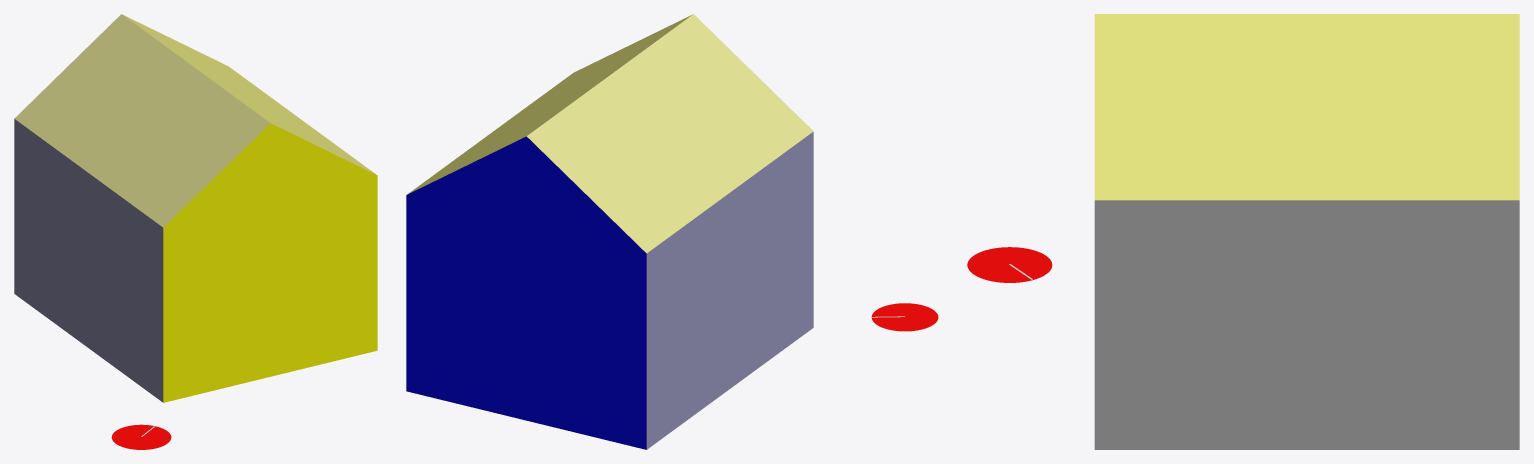
The model's file is result.glb.
3 renders of one model, left to right at view 1: azimuth 30°, elevation 25°; view 2: azimuth 150°, elevation 25°; view 3: azimuth 270°, elevation 25°, orthographic. The views are drawn at different scales.
Visible parts, largest first — view 1: aa863c25-0b22-4197-83e9-554aa67a7fcb__undefined, 058225fe-0f4d-4bdf-abdf-ac66dbb0f988__undefined, 706b74f6-5422-4819-9f81-85ab25ceb023__undefined, 0c68e49c-867d-4fc0-b882-c3ee7961ec3b__undefined, 887cbe27-3654-4a99-a986-1f576d9929c4__Circle; view 2: 5343460c-4648-469c-8b9d-e86530b473be__undefined, 058225fe-0f4d-4bdf-abdf-ac66dbb0f988__undefined, 706b74f6-5422-4819-9f81-85ab25ceb023__undefined, 0c68e49c-867d-4fc0-b882-c3ee7961ec3b__undefined, 887cbe27-3654-4a99-a986-1f576d9929c4__Circle; view 3: 5b4c2a55-672b-48f3-bd8b-c80b558ea79b__undefined, 0c68e49c-867d-4fc0-b882-c3ee7961ec3b__undefined, 887cbe27-3654-4a99-a986-1f576d9929c4__Circle.
Boxes of the visible parts, x1,y1,x2,y2 form: aa863c25-0b22-4197-83e9-554aa67a7fcb__undefined: (163,123,377,402); 058225fe-0f4d-4bdf-abdf-ac66dbb0f988__undefined: (14,14,269,227); 706b74f6-5422-4819-9f81-85ab25ceb023__undefined: (14,119,163,402); 0c68e49c-867d-4fc0-b882-c3ee7961ec3b__undefined: (122,14,376,174); 887cbe27-3654-4a99-a986-1f576d9929c4__Circle: (111,424,171,449); 5343460c-4648-469c-8b9d-e86530b473be__undefined: (406,136,646,449); 058225fe-0f4d-4bdf-abdf-ac66dbb0f988__undefined: (526,14,813,253); 706b74f6-5422-4819-9f81-85ab25ceb023__undefined: (646,131,813,449); 0c68e49c-867d-4fc0-b882-c3ee7961ec3b__undefined: (407,14,692,194); 887cbe27-3654-4a99-a986-1f576d9929c4__Circle: (871,303,938,331); 5b4c2a55-672b-48f3-bd8b-c80b558ea79b__undefined: (1094,200,1519,449); 0c68e49c-867d-4fc0-b882-c3ee7961ec3b__undefined: (1094,14,1519,200); 887cbe27-3654-4a99-a986-1f576d9929c4__Circle: (967,247,1052,282).
Bounding box in the file's own units: 565 × 469 × 650.
